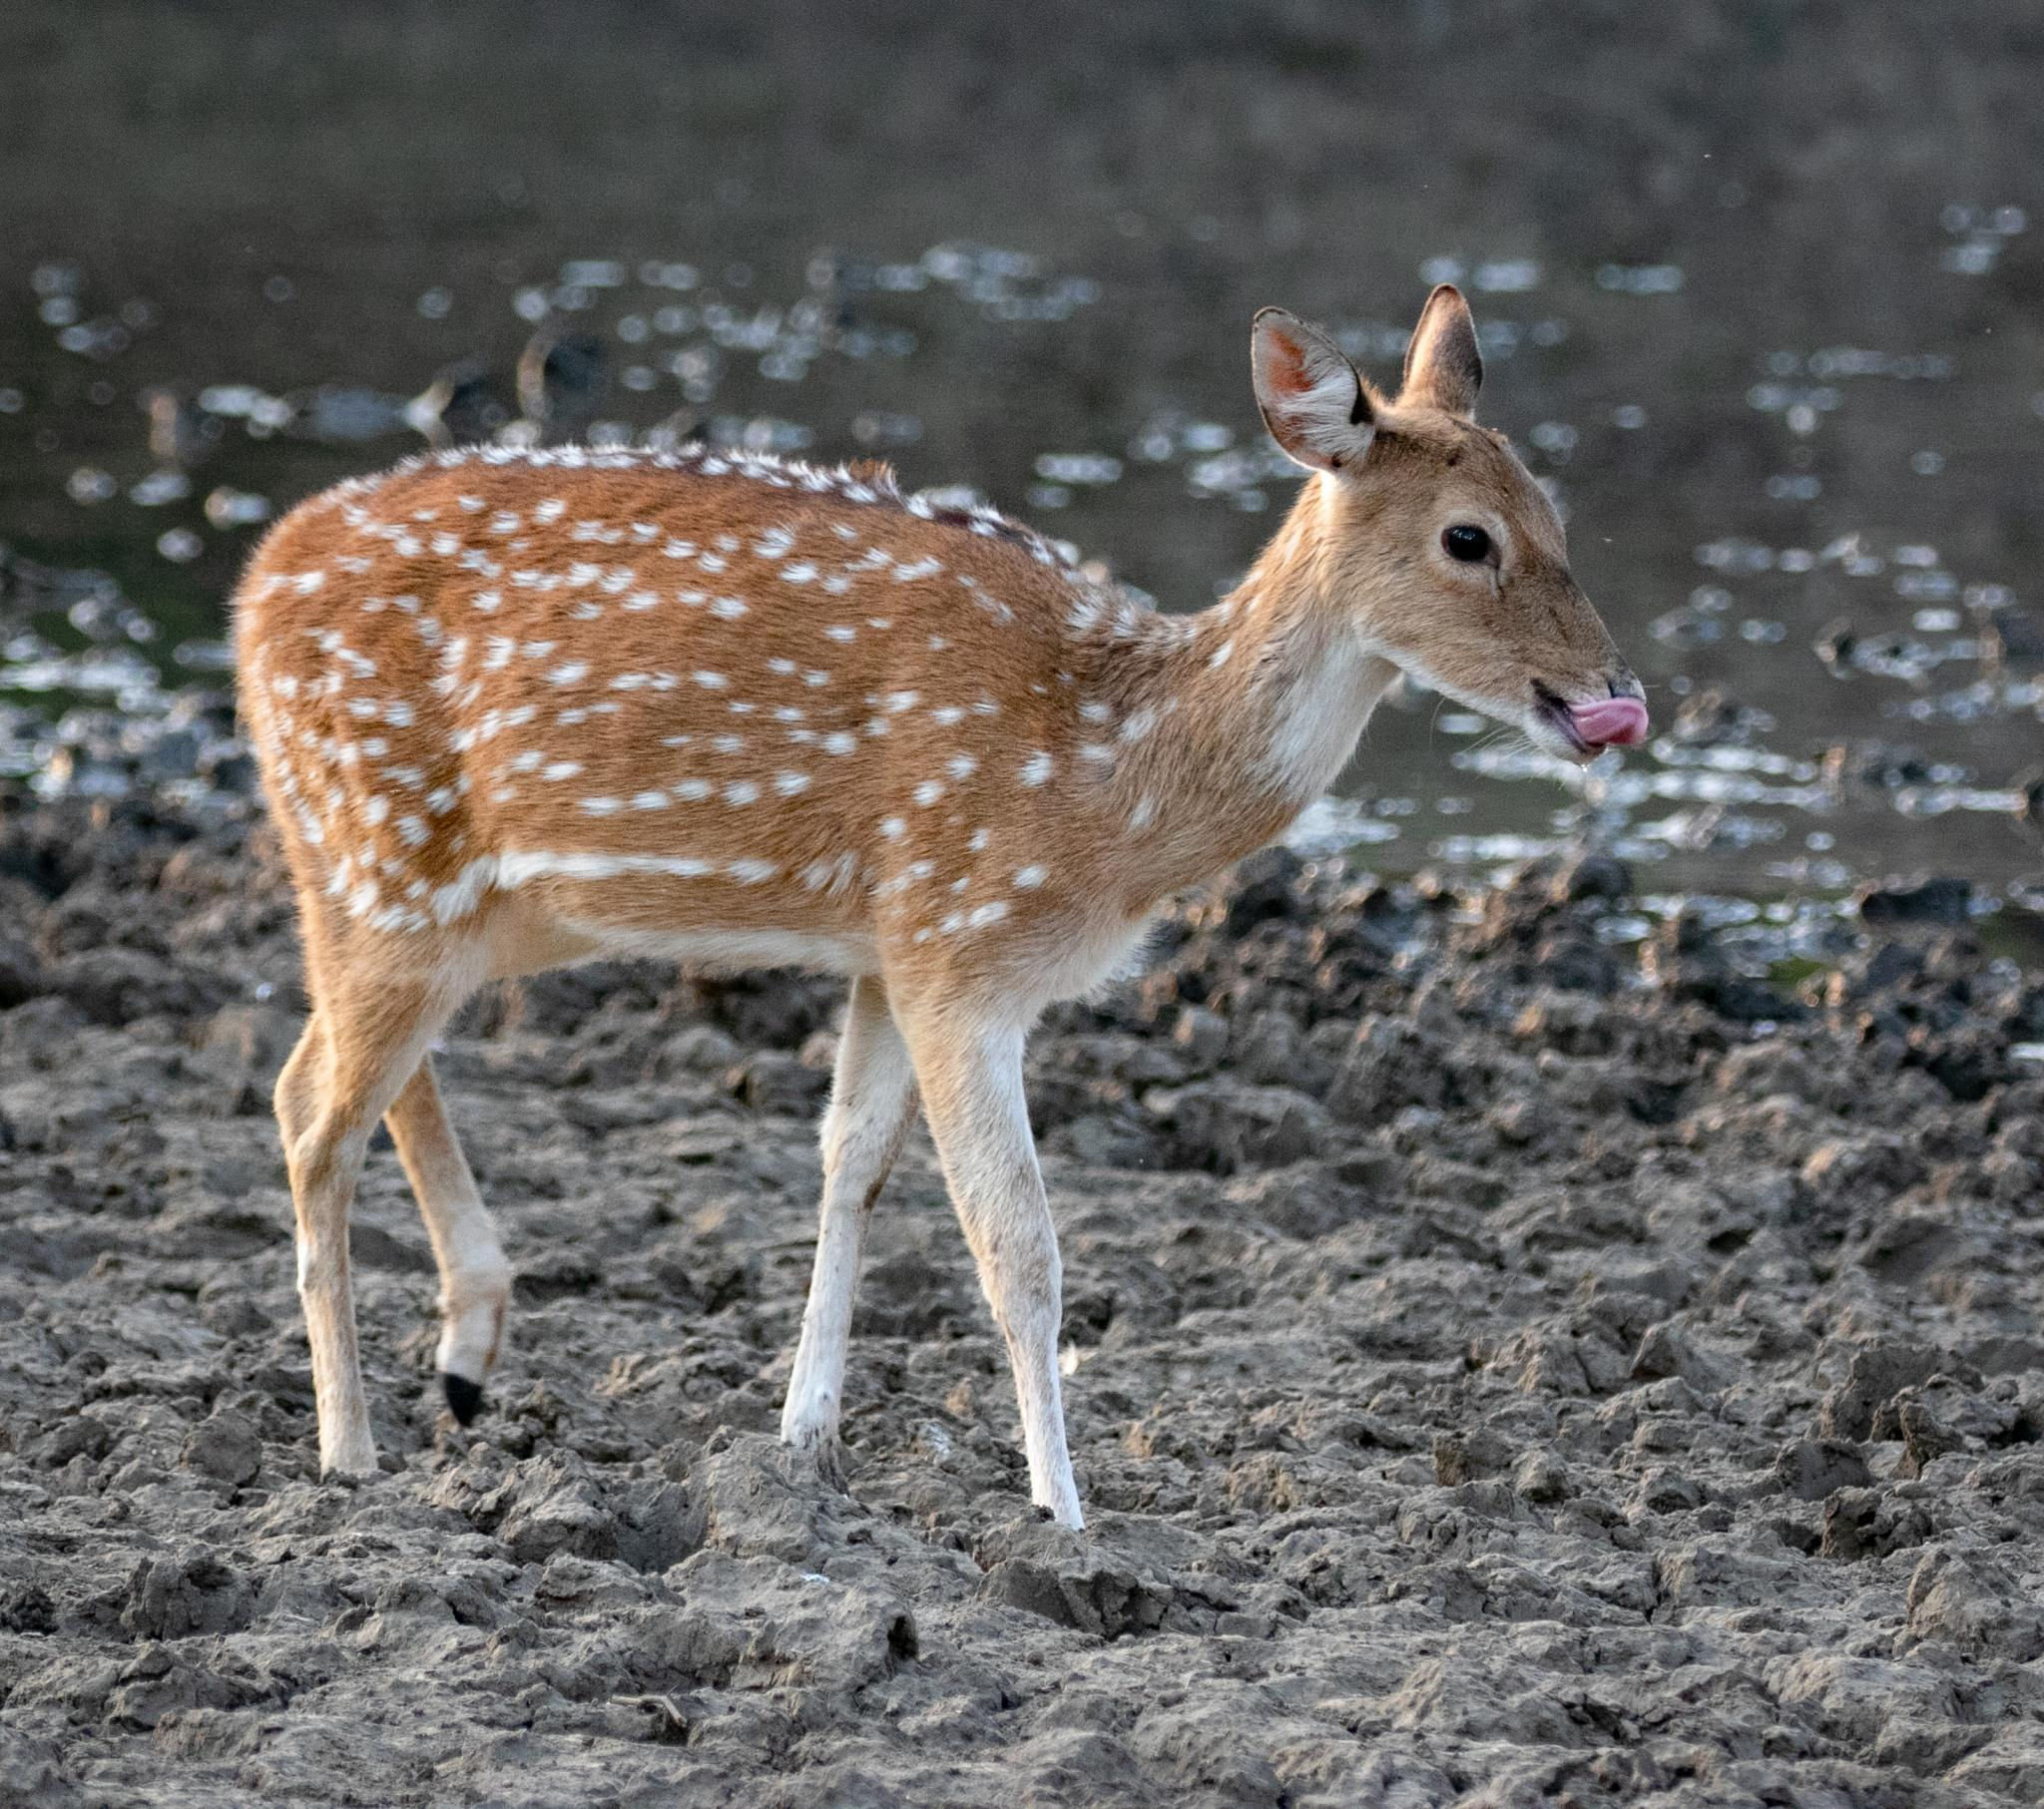Deer: (236, 285, 1647, 1526)
